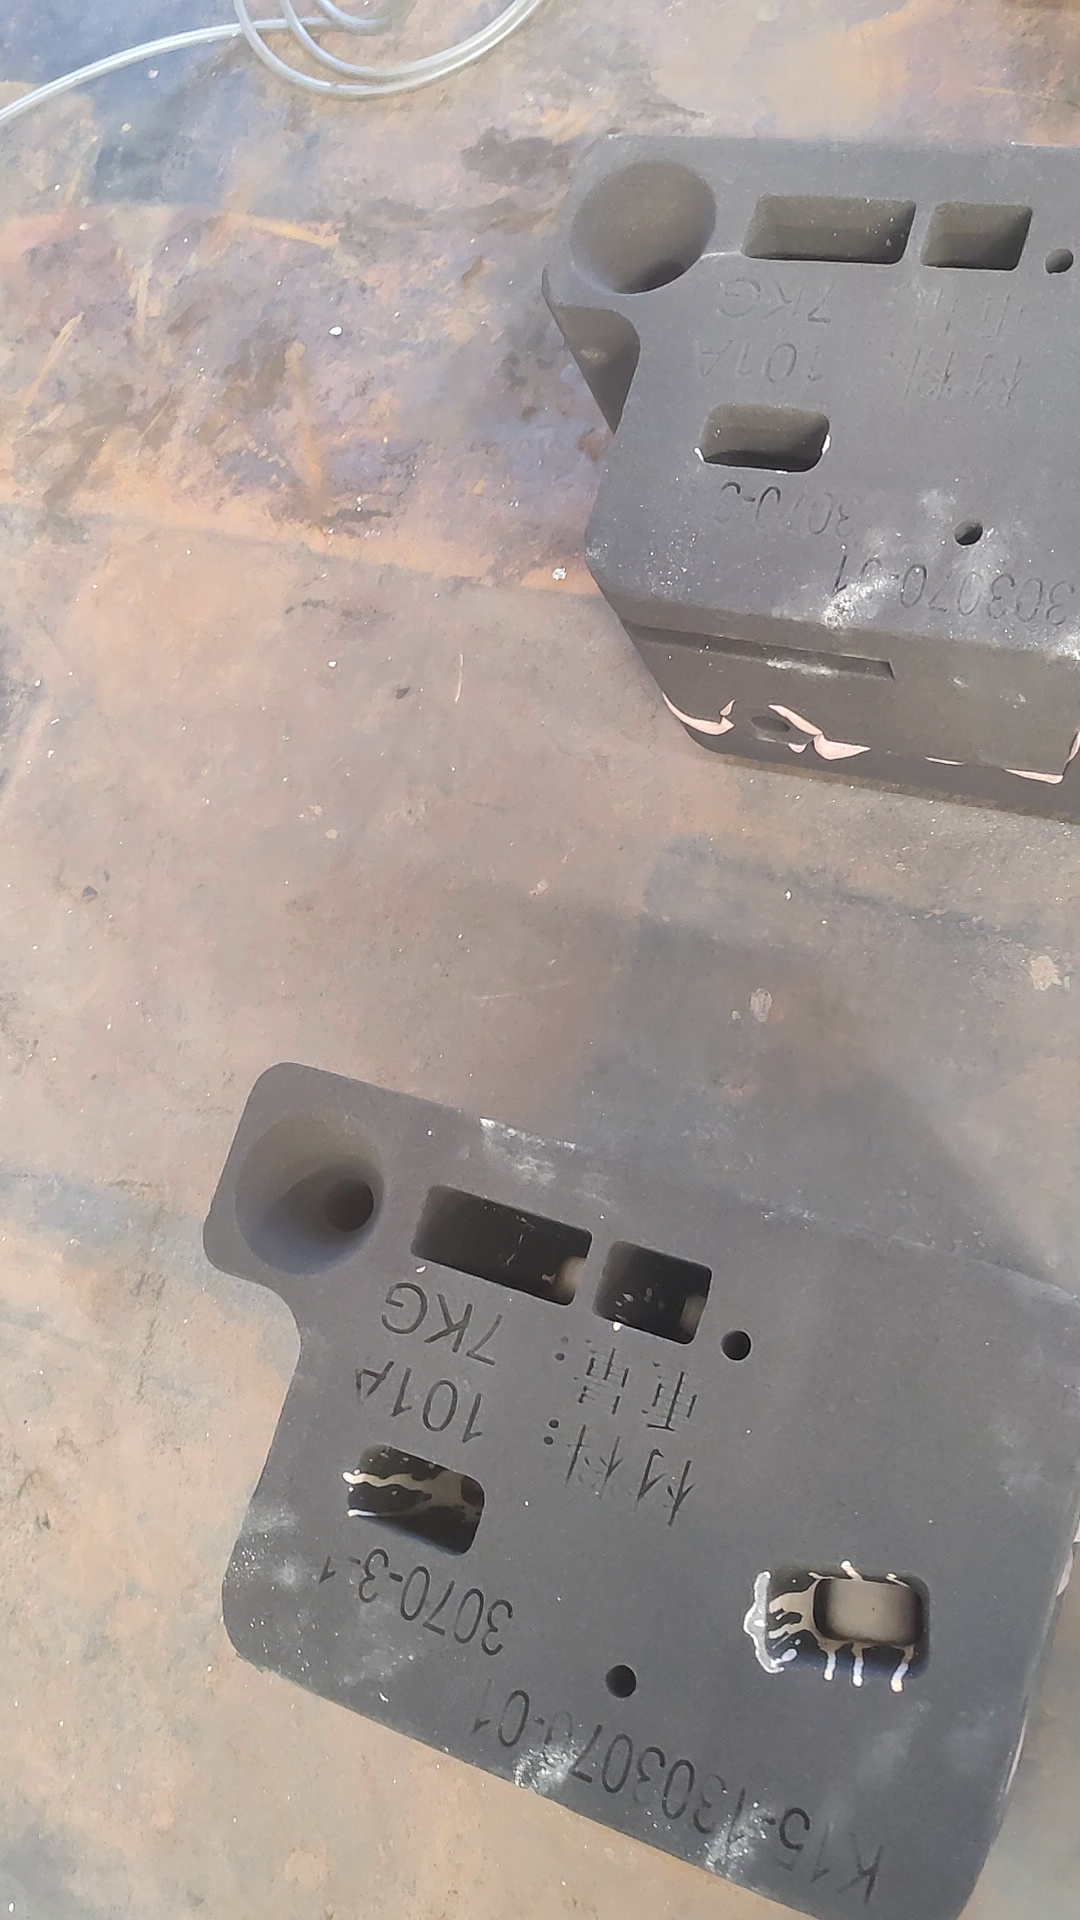pouring hole: (233, 1108, 393, 1278), (567, 158, 717, 297)
